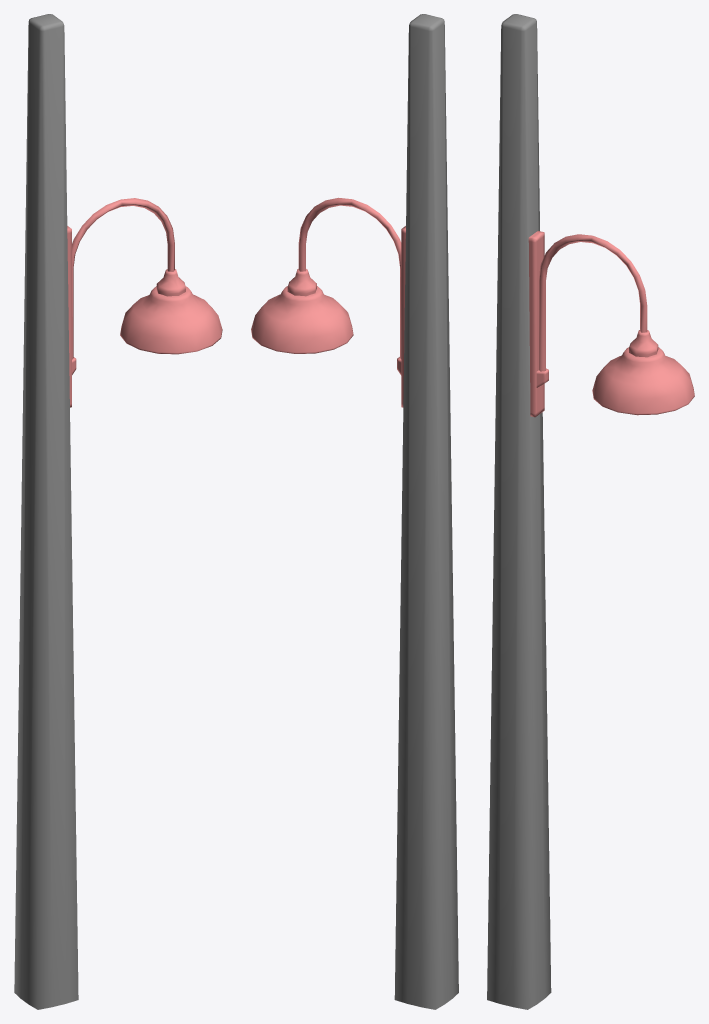
File: Woods_Lightpost_01.gltf
The picture shows the model from 3 angles, left to right: view 1: azimuth 30°, elevation 25°; view 2: azimuth 150°, elevation 25°; view 3: azimuth 330°, elevation 25°; orthographic projection.
Visible parts, largest first — view 1: Woods_Lightpost_01; view 2: Woods_Lightpost_01; view 3: Woods_Lightpost_01.
Boxes of the visible parts, x1,y1,x2,y2 form: Woods_Lightpost_01: (14, 14, 222, 1009); Woods_Lightpost_01: (251, 14, 458, 1009); Woods_Lightpost_01: (487, 14, 694, 1009).
Size of the model in its own units: 3.31 by 16.15 by 1.55.
